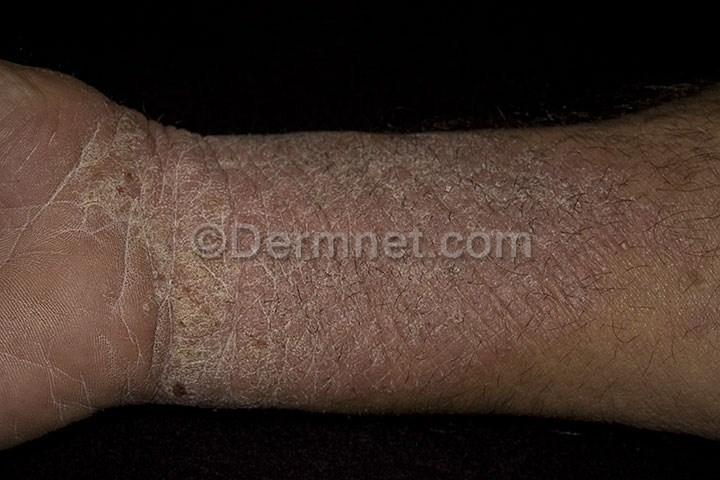Eczema: (414, 211, 510, 296), (309, 299, 399, 387), (112, 186, 191, 285), (184, 125, 271, 214), (151, 293, 246, 372), (187, 209, 274, 295), (276, 213, 360, 298), (395, 296, 471, 389), (59, 130, 140, 217), (417, 140, 505, 217), (512, 192, 578, 291), (355, 188, 416, 295), (279, 137, 356, 211), (113, 112, 184, 191), (527, 285, 595, 360), (235, 298, 311, 365), (577, 214, 665, 269), (509, 136, 580, 203), (586, 266, 663, 327), (456, 290, 529, 351), (660, 298, 720, 364), (153, 360, 227, 411), (227, 357, 296, 407), (584, 165, 638, 222), (653, 239, 708, 294), (298, 377, 361, 417), (362, 136, 401, 182)
